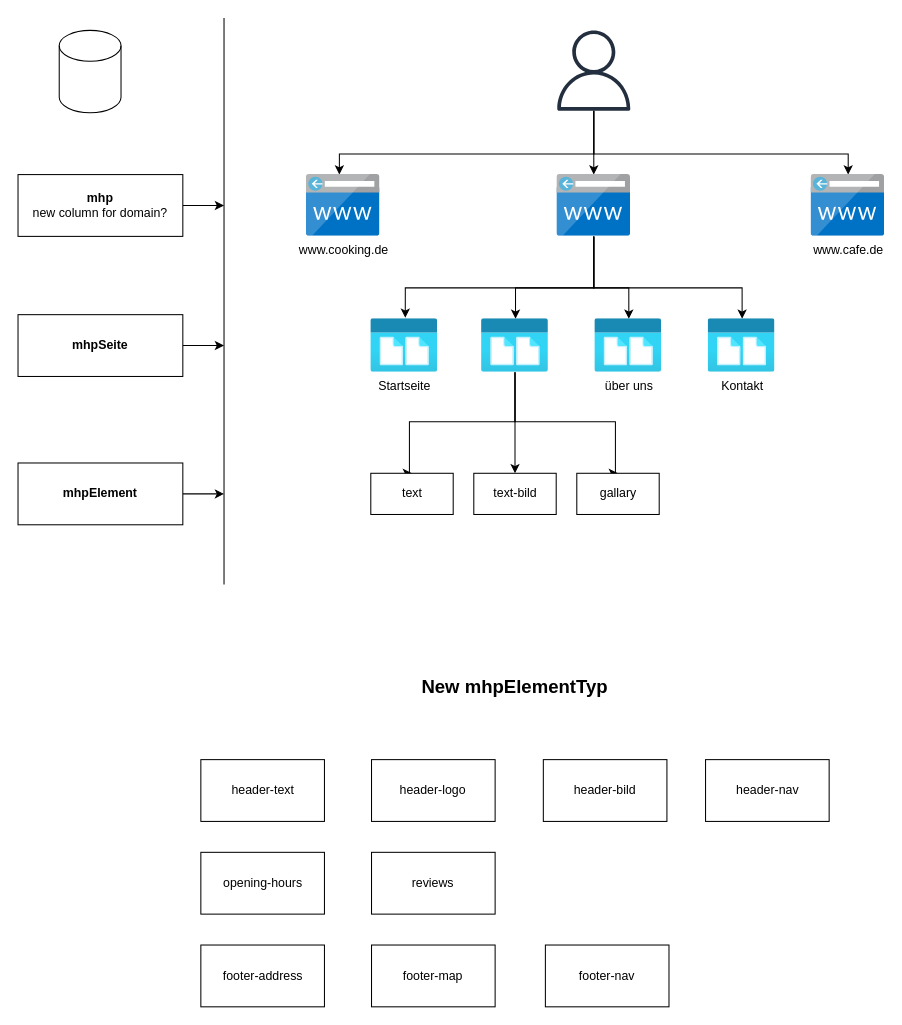
Image size: 902x1025. Some labels were removed from this diagram. Here are the shapes that lost their labels. From the top down, the centre of each, then its label:
At pixel 89 71: "DB table".
At pixel 593 70: "Kunde".
At pixel 593 205: "www.zahnarzt.de".
At pixel 514 345: "Leistungen".
